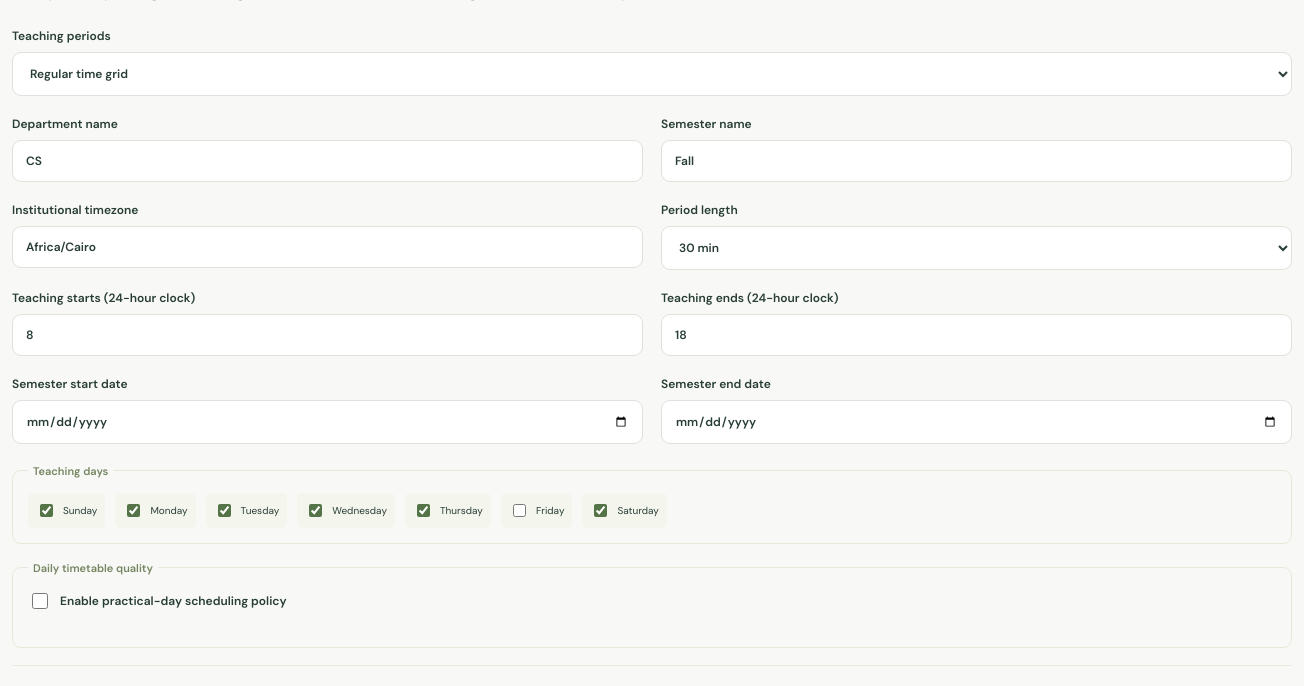
Test: practical-day settings use explicit editable demo caps and can be disabled
The image size is (1304, 686).
Later steps or results of the test are not shown.
Click the checkbox labelled "Enable practical-day scheduling policy" at (40, 601), box 32,593 -> 48,609
(page scrolled)
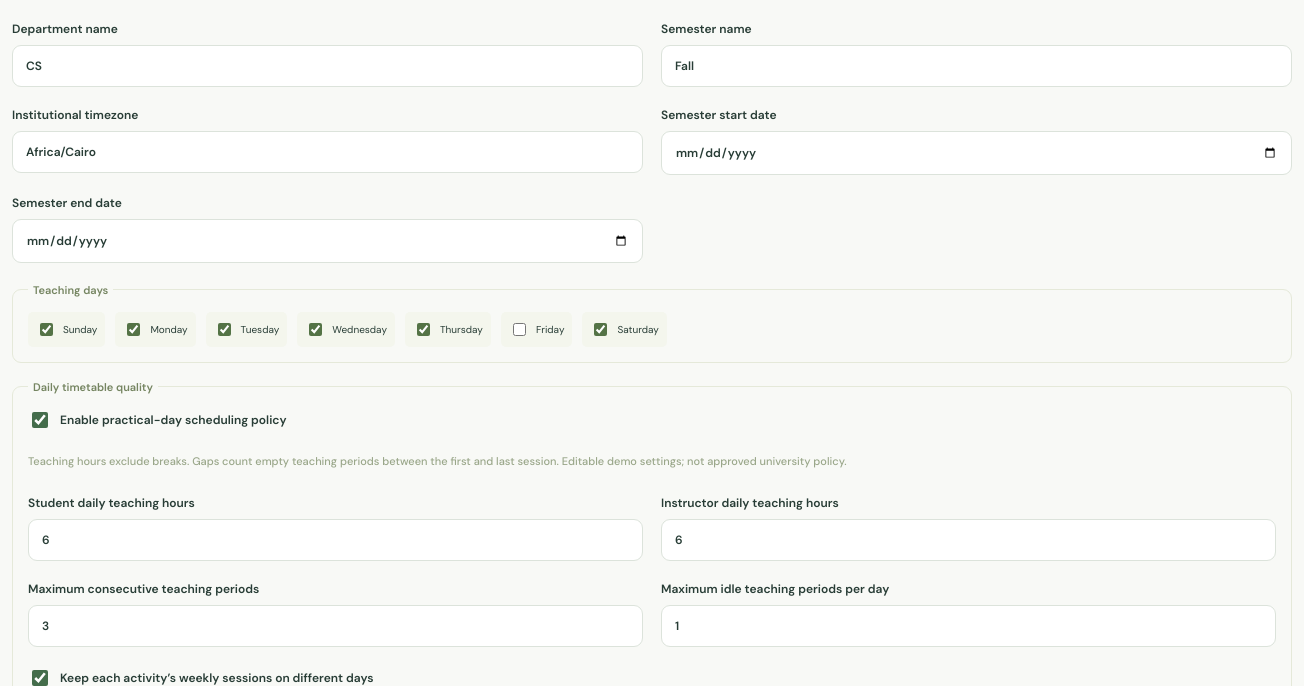
Expected: the number field labelled "Student daily teaching hours" holds "6", 28,519 -> 643,561
Expected: the number field labelled "Instructor daily teaching hours" holds "6", 661,519 -> 1276,561
